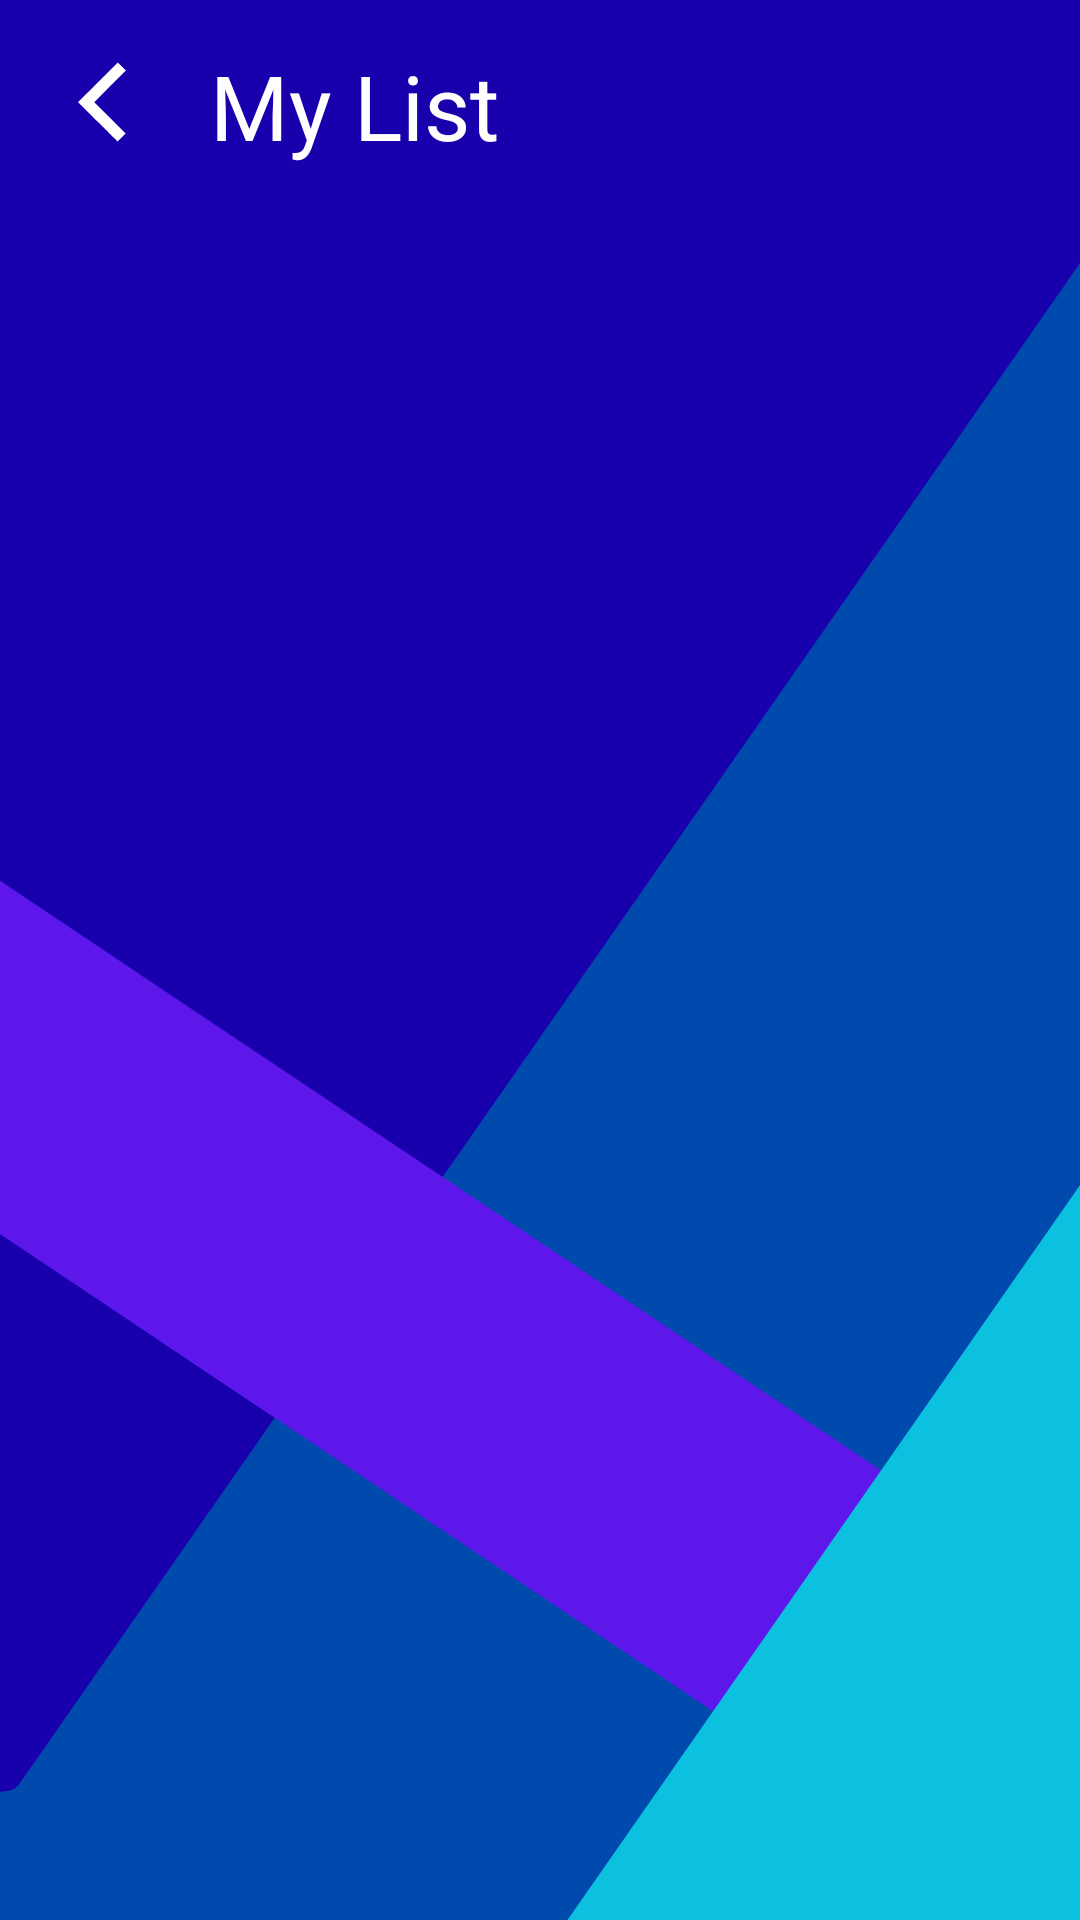

Icon click points for this 1080 × 1920 phone screenshot, format point (x, y):
back: point (102, 102)
